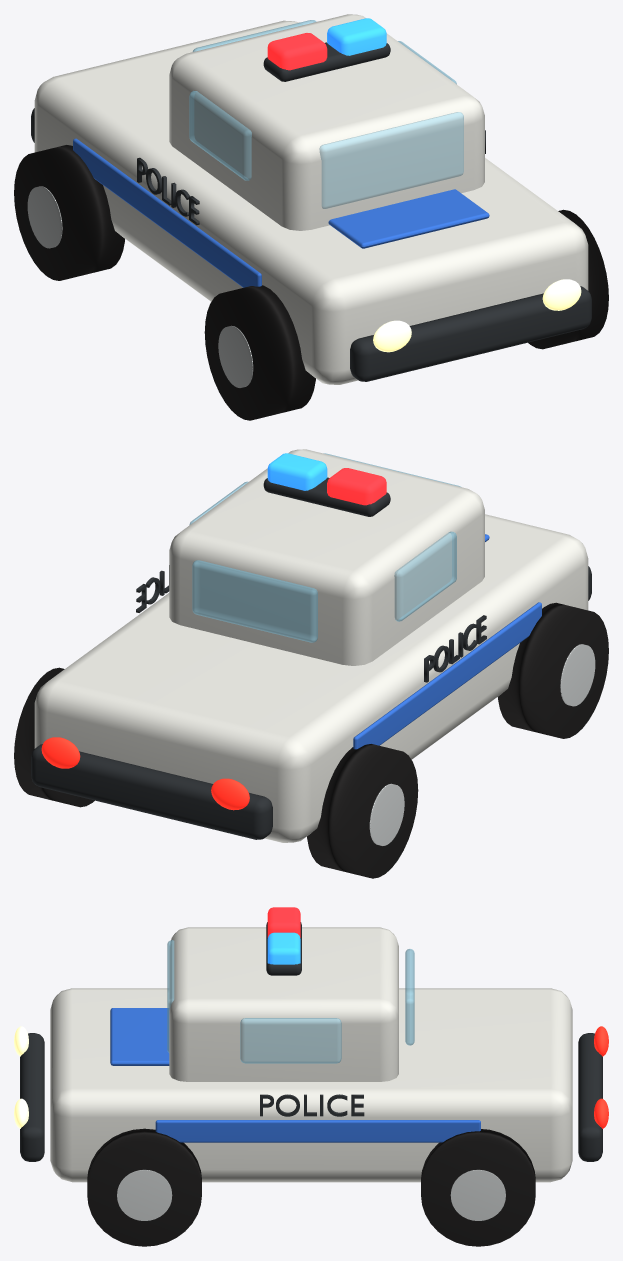
Rendered from cartoon_police_car.glb.
The picture shows the model from 3 angles, top to bottom: view 1: azimuth 30°, elevation 25°; view 2: azimuth 150°, elevation 25°; view 3: azimuth 270°, elevation 25°; orthographic projection. The views are drawn at different scales.
Parts seen in each view (by area): view 1: police_body_main, police_body_cabin, police_bumper_front, police_wheel_FL_tire, police_window_windshield, police_wheel_RL_tire, police_hood_badge_panel, police_side_stripe_left, police_window_left, police_wheel_FR_tire, police_siren_red, police_siren_blue (+6 smaller); view 2: police_body_main, police_body_cabin, police_bumper_rear, police_wheel_RL_tire, police_wheel_FL_tire, police_window_rear, police_side_stripe_left, police_window_left, police_wheel_RR_tire, police_siren_red, police_siren_blue, police_wheel_FL_hubcap_inner (+6 smaller); view 3: police_body_main, police_body_cabin, police_wheel_FR_tire, police_wheel_RR_tire, police_side_stripe_right, police_window_right, police_hood_badge_panel, police_bumper_front, police_bumper_rear, police_wheel_FR_hubcap_inner, police_wheel_RR_hubcap_inner, police_decal_right_text (+5 smaller).
Part boxes in pixels (x1,y1,x2,y2): police_body_main: (34,20,588,384); police_body_cabin: (169,14,484,230); police_bumper_front: (350,286,591,381); police_wheel_FL_tire: (204,285,315,420); police_window_windshield: (319,112,463,208); police_wheel_RL_tire: (14,145,124,280); police_hood_badge_panel: (328,189,489,248); police_side_stripe_left: (73,138,261,287); police_window_left: (189,90,251,180); police_wheel_FR_tire: (528,209,608,349); police_siren_red: (267,33,327,70); police_siren_blue: (327,18,386,55); police_body_main: (34,514,588,842); police_body_cabin: (169,449,484,665); police_bumper_rear: (31,744,272,839); police_wheel_RL_tire: (307,744,418,878); police_wheel_FL_tire: (498,602,608,738); police_window_rear: (192,560,317,642); police_side_stripe_left: (353,602,541,749); police_window_left: (394,531,456,621); police_wheel_RR_tire: (14,667,94,807); police_siren_red: (327,468,386,505); police_siren_blue: (267,453,327,490); police_wheel_FL_hubcap_inner: (560,644,595,706); police_body_main: (50,988,572,1182); police_body_cabin: (169,927,398,1081); police_wheel_FR_tire: (87,1128,201,1246); police_wheel_RR_tire: (421,1129,535,1246); police_side_stripe_right: (155,1120,480,1142); police_window_right: (240,1018,341,1063); police_hood_badge_panel: (110,1008,169,1065); police_bumper_front: (20,1033,44,1161); police_bumper_rear: (578,1033,602,1161); police_wheel_FR_hubcap_inner: (117,1169,172,1220); police_wheel_RR_hubcap_inner: (450,1169,505,1220); police_decal_right_text: (260,1094,364,1116).
Size of what is drawn, in the model's own units: 2.55 by 1.99 by 4.35.
